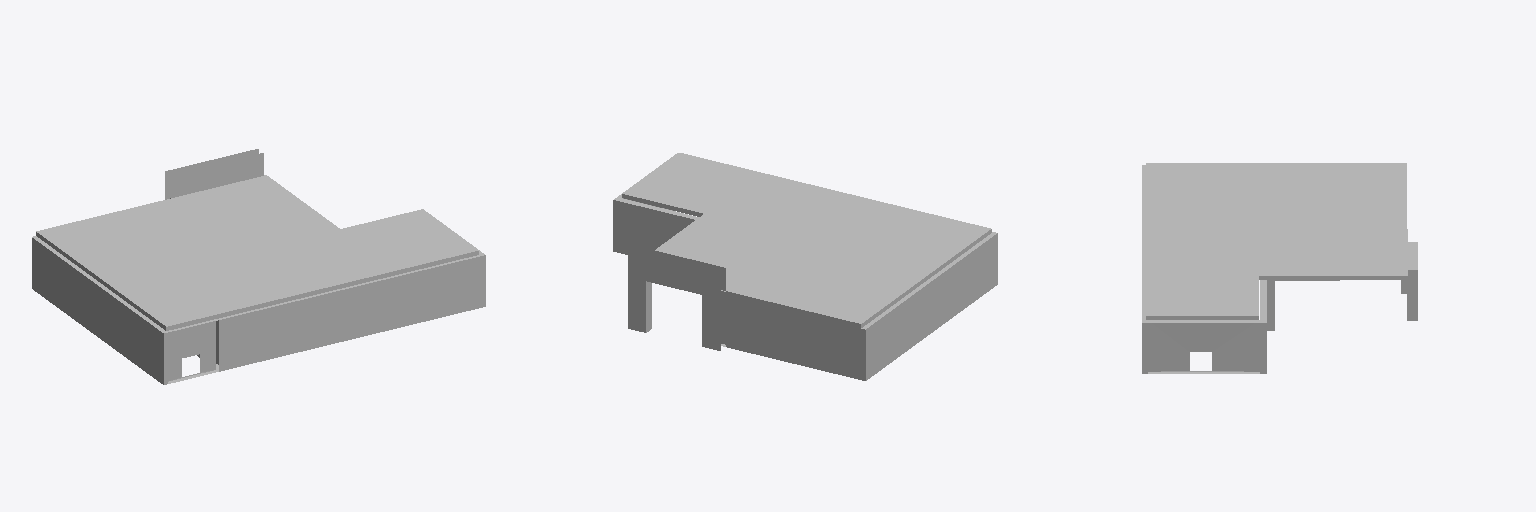
The model's file is bathroomscube.obj.
The picture shows the model from 3 angles: view 1: azimuth 30°, elevation 25°; view 2: azimuth 150°, elevation 25°; view 3: azimuth 270°, elevation 25°; orthographic projection.
Visible parts, largest first — view 1: bathroomscube; view 2: bathroomscube; view 3: bathroomscube.
Boxes of the visible parts, x1=… form: bathroomscube: x1=32, y1=149, x2=485, y2=384; bathroomscube: x1=613, y1=153, x2=997, y2=380; bathroomscube: x1=1142, y1=163, x2=1417, y2=373.
Size of the model in its own units: 17.2 by 4.05 by 12.73.